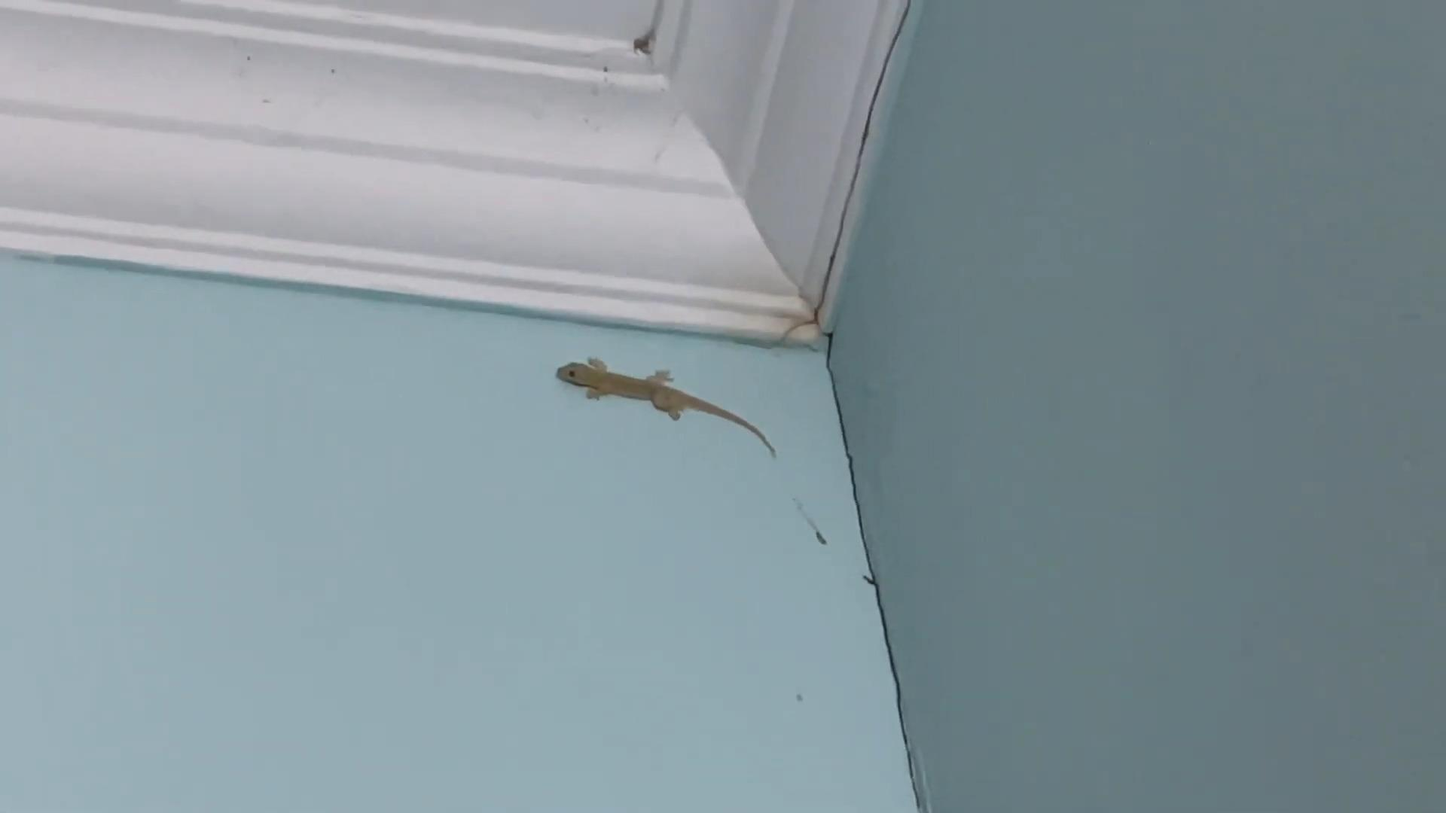lizard: (552, 350, 775, 453)
